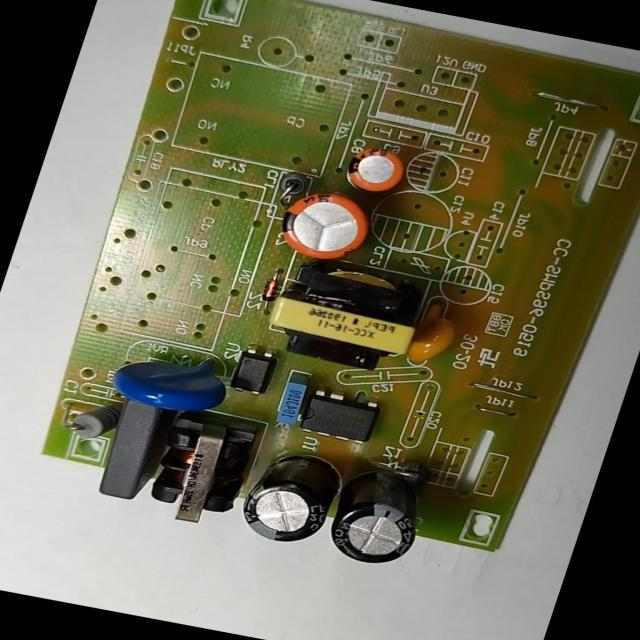Cap1: (269, 181, 379, 267)
Cap2: (341, 144, 411, 196)
Cap3: (234, 446, 347, 549)
Cap4: (319, 464, 433, 570)
MOSFET: (293, 384, 386, 446)
Mov: (105, 340, 234, 415)
Resistor: (63, 396, 123, 445)
Transformer: (262, 257, 432, 376), (141, 408, 263, 532)
